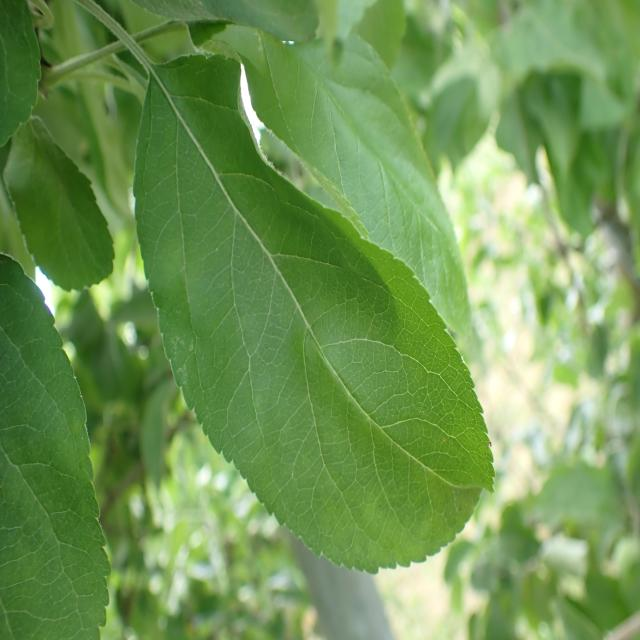healthy: (132, 49, 496, 576), (258, 26, 472, 346), (0, 253, 111, 640), (2, 116, 115, 293), (0, 0, 42, 147)
